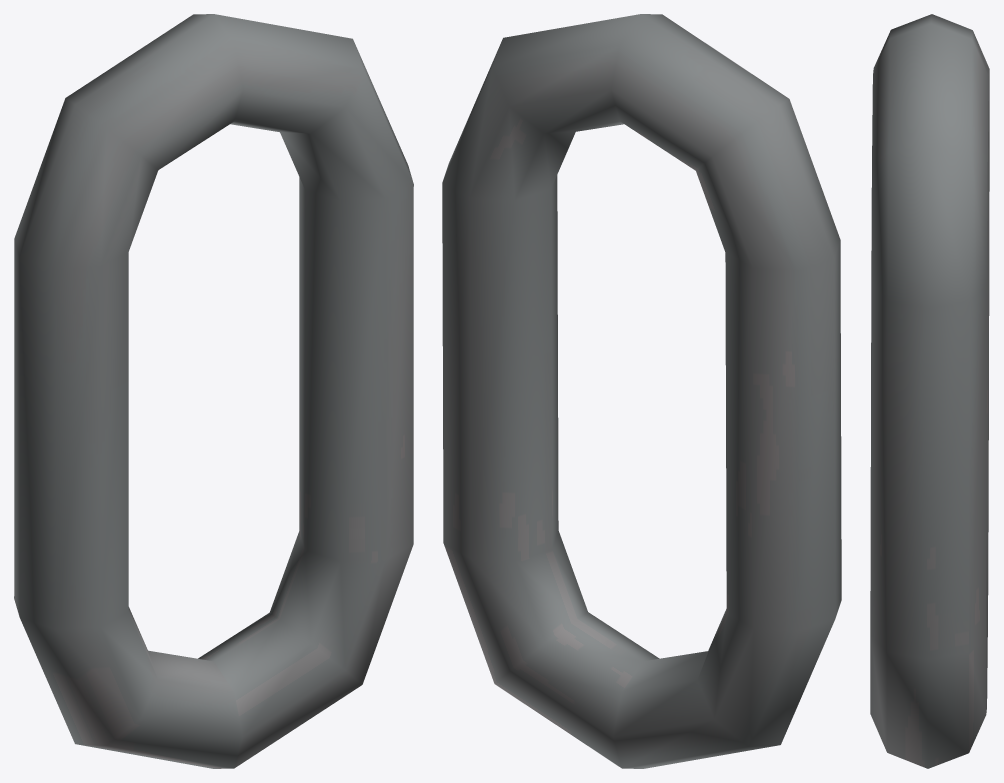
The model's file is chain_ring.fbx.
The picture shows the model from 3 angles, left to right: view 1: azimuth 30°, elevation 25°; view 2: azimuth 150°, elevation 25°; view 3: azimuth 270°, elevation 25°; orthographic projection. The views are drawn at different scales.
Parts seen in each view (by area): view 1: Chain_Low.004; view 2: Chain_Low.004; view 3: Chain_Low.004.
Boxes of the visible parts, x1=… form: Chain_Low.004: x1=14, y1=14, x2=413, y2=768; Chain_Low.004: x1=442, y1=14, x2=841, y2=768; Chain_Low.004: x1=870, y1=14, x2=989, y2=768.
Size of the model in its own units: 5.56 by 10.35 by 1.52.
